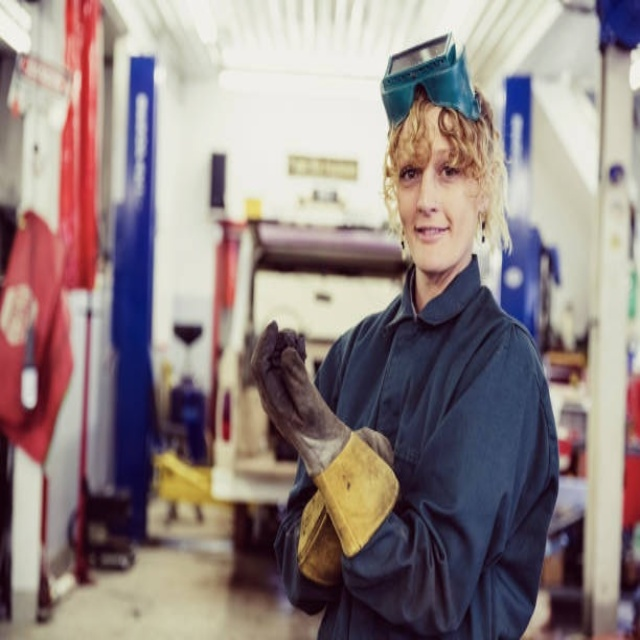Guantes: (254, 314, 403, 591)
Sin_gafas: (395, 149, 462, 196)
Sin_mascara: (408, 216, 454, 257)
